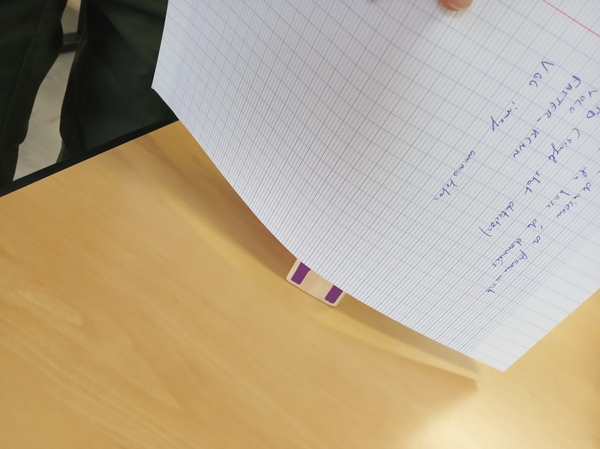violet: (285, 250, 349, 310)
